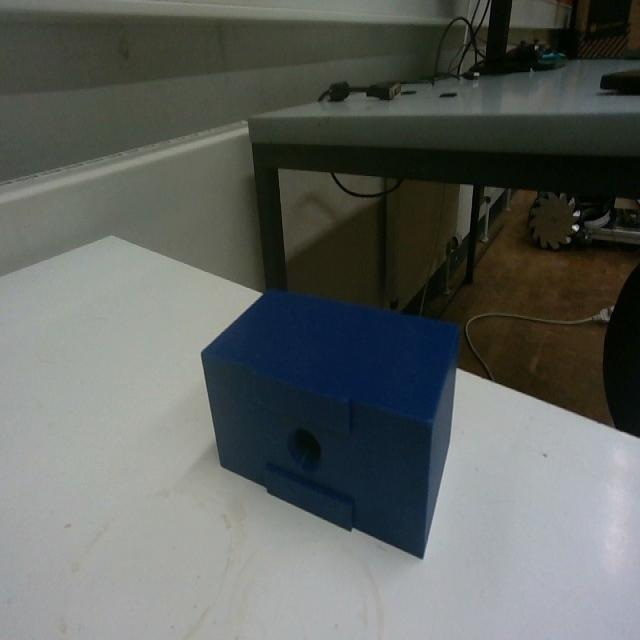Blue Cuboid: (198, 281, 462, 560)
